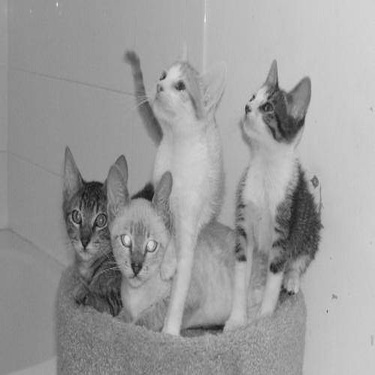cat: (219, 56, 320, 334), (107, 164, 275, 331), (152, 59, 223, 339), (63, 144, 155, 314)
